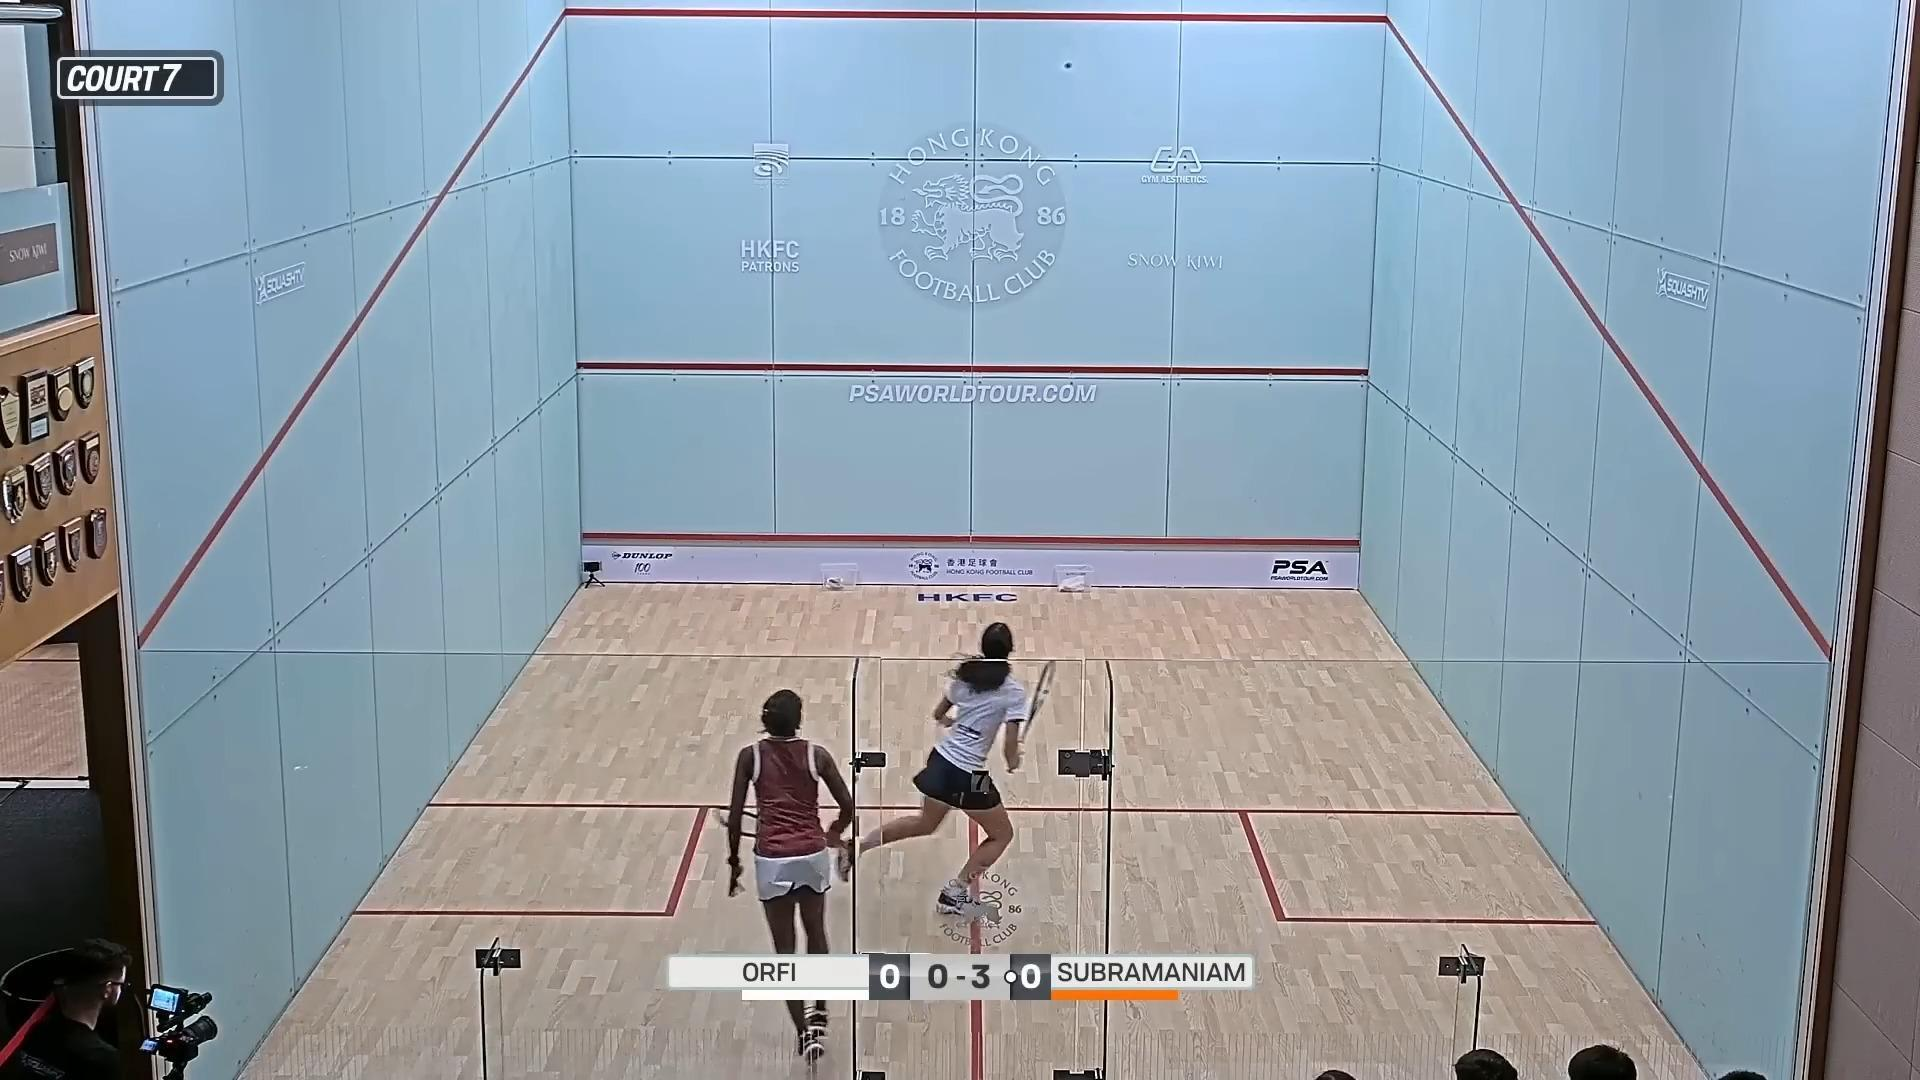Squash-Ball: (1051, 49, 1088, 82)
